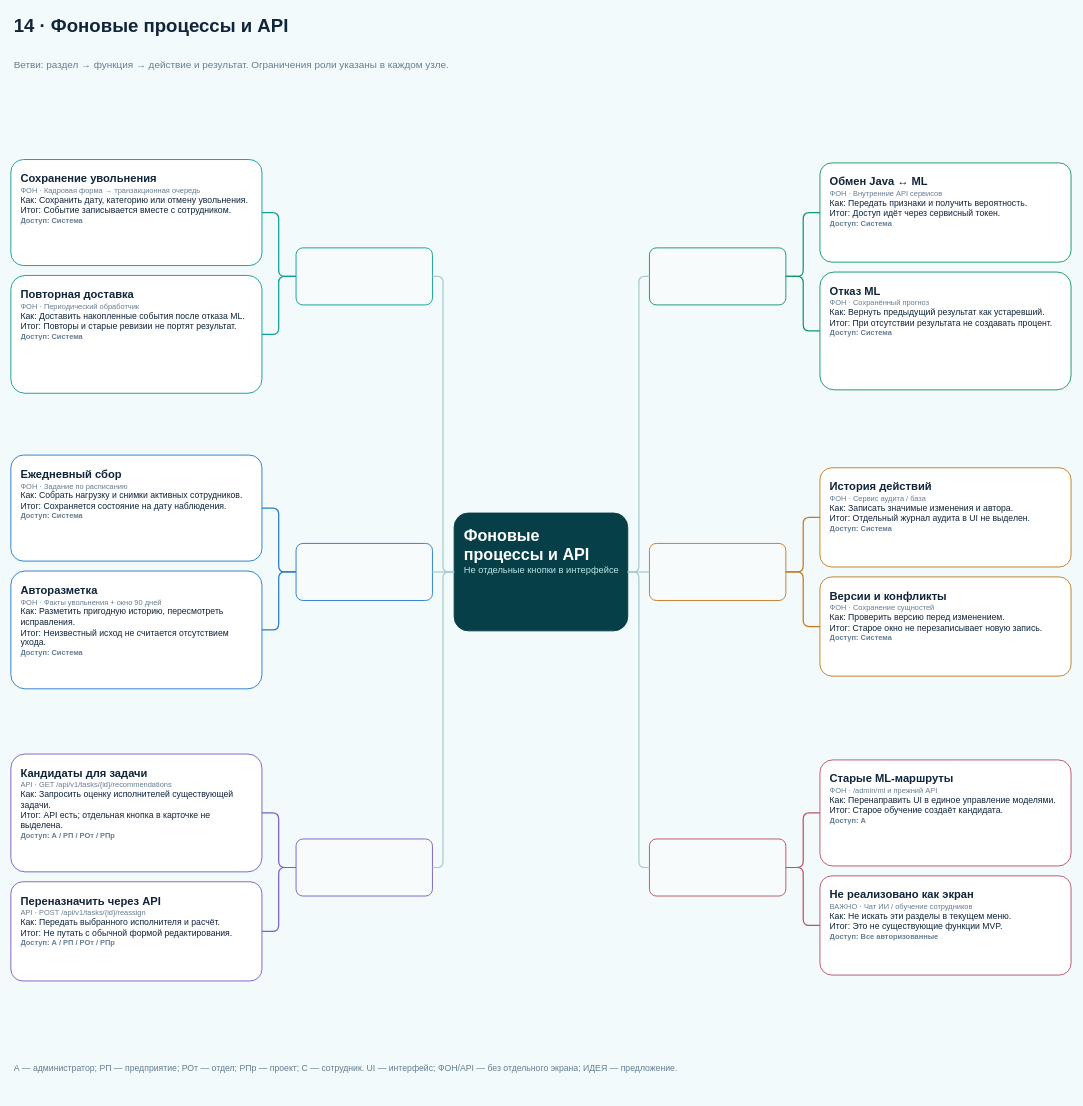
The diagram is 1083 pixels wide and 1106 high, and some of its shapes have lost their labels. The centre of each missing label's shape, as x and y in pixels:
"Аудит" goes at point (717, 572).
"История признаков" goes at point (364, 572).
"Кадровое событие" goes at point (364, 276).
"Прогнозы" goes at point (717, 276).
"Расчёт рекомендаций" goes at point (364, 867).
"Совместимость" goes at point (717, 867).
